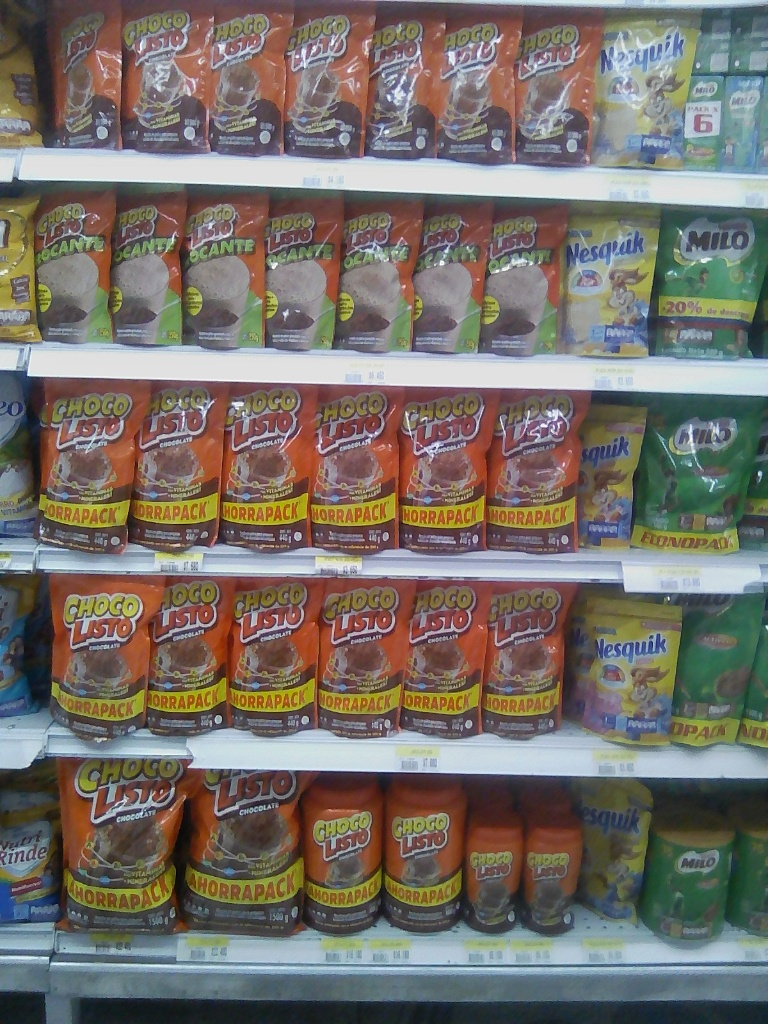COL0170102DYP25000: (482, 194, 570, 361)
COL0170103DYP1,500: (191, 768, 311, 940)
COL0170103DYP44000: (43, 572, 150, 741)
COL0170103TRR00100: (384, 771, 467, 935)
COL0170103TRR30000: (523, 812, 589, 940)
COL0170203DYP50000: (665, 203, 765, 367)
COL0170303DYP20000: (570, 770, 662, 929)
COL0170305DYP20000: (578, 587, 686, 754)
COL0170306DYP20000: (600, 1, 700, 178)
